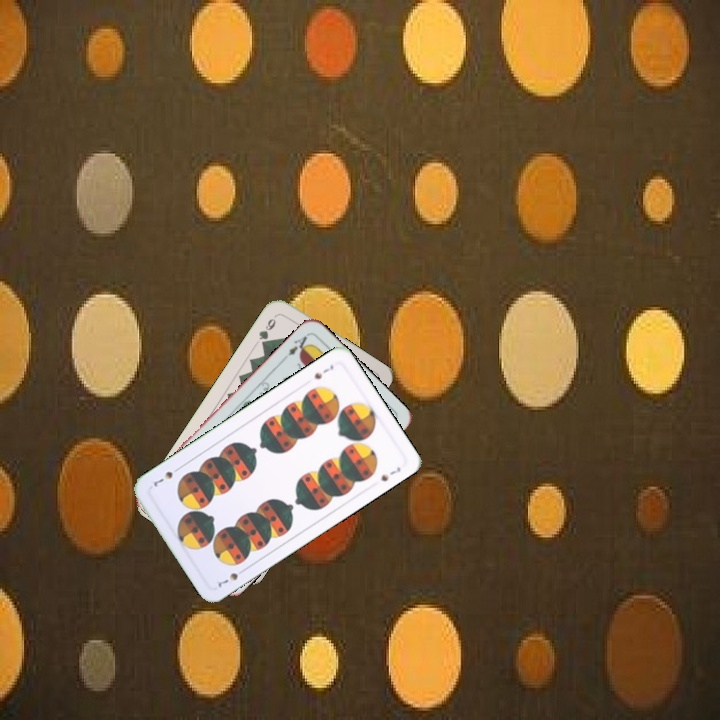EA: (279, 330, 313, 363)
G9: (255, 314, 278, 349)
S7: (214, 564, 249, 591), (310, 361, 336, 382)
